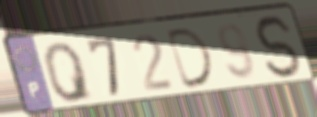2: (131, 32, 174, 93)
7: (85, 35, 122, 99)
9: (215, 22, 258, 82)
D: (164, 25, 217, 92)
Q: (40, 40, 97, 105)
S: (252, 14, 306, 81)
